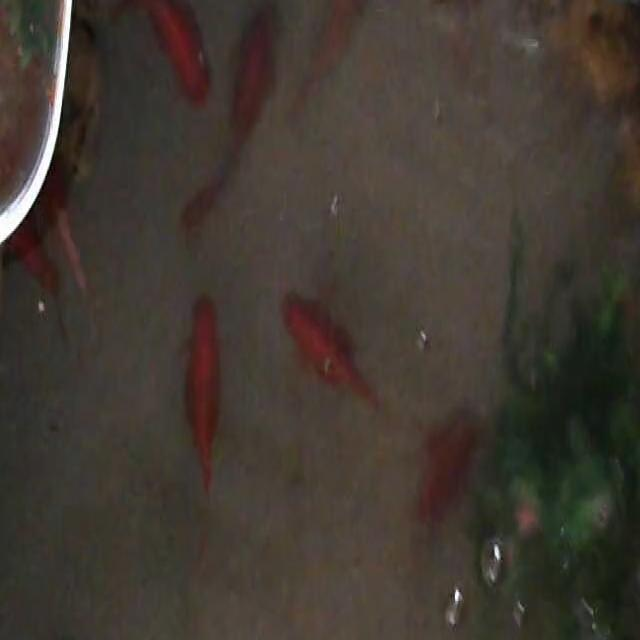fish: (183, 2, 278, 236), (281, 289, 384, 413), (7, 162, 86, 312), (110, 0, 209, 105), (295, 0, 368, 117), (412, 410, 483, 530), (184, 291, 221, 497)
